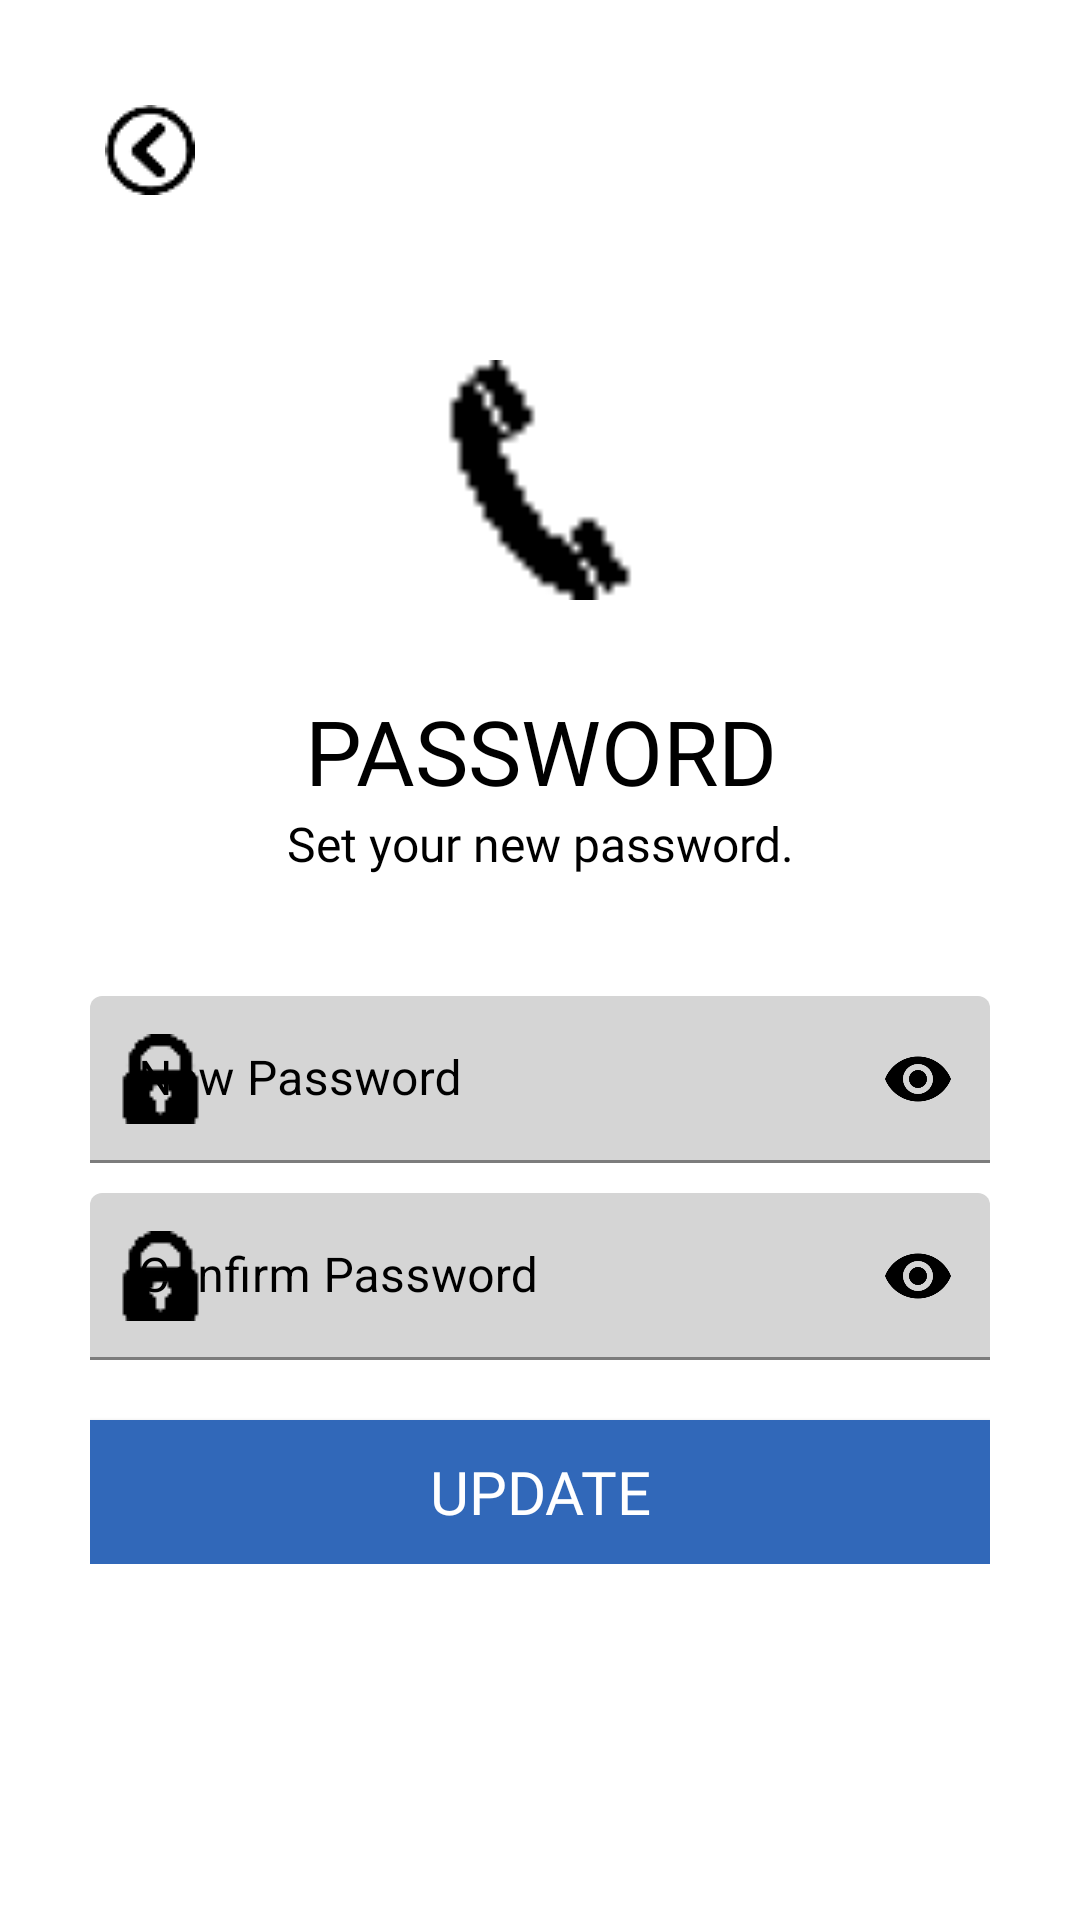

Where to tap for icons on this 1080x1920 app screen, as [x,y]:
backbtn: [150,150]
number: [540,480]
